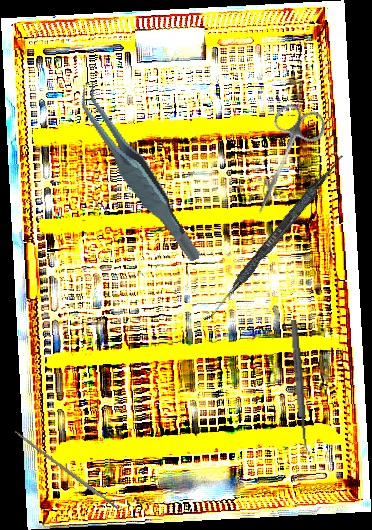Iris Scissors: (237, 98, 331, 225)
Scalpel Handle: (13, 429, 120, 512)
Spatula Surgical: (203, 150, 345, 327)
Surgical Spoon: (289, 319, 310, 457)
Tissue Forceps: (75, 67, 202, 279)
